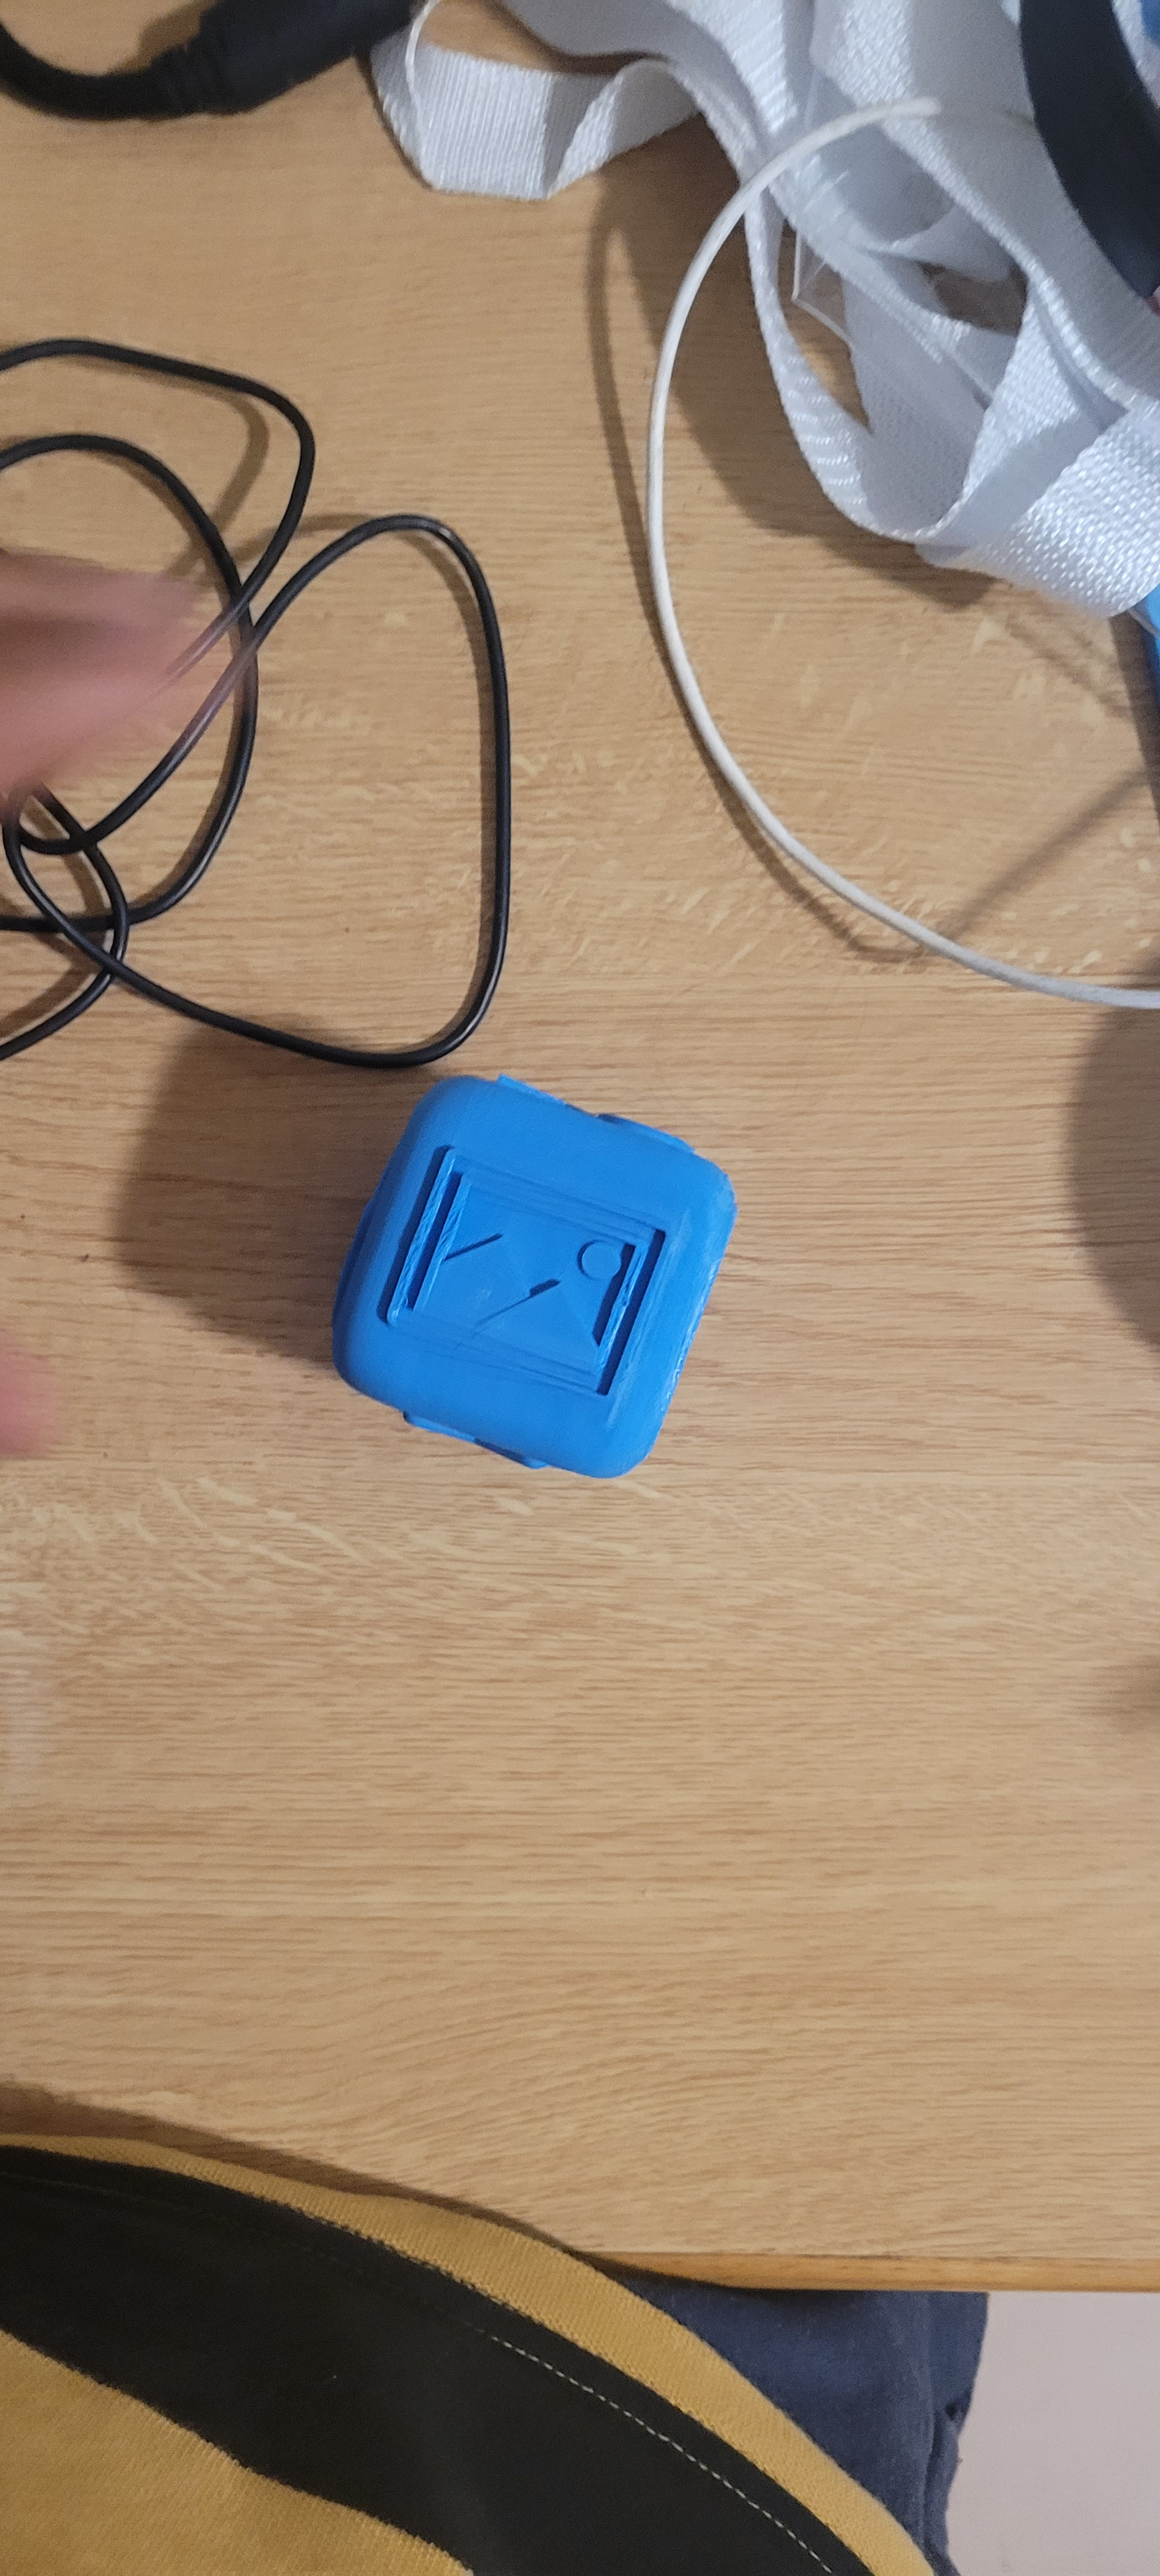Story: (422, 1106, 682, 1424)
